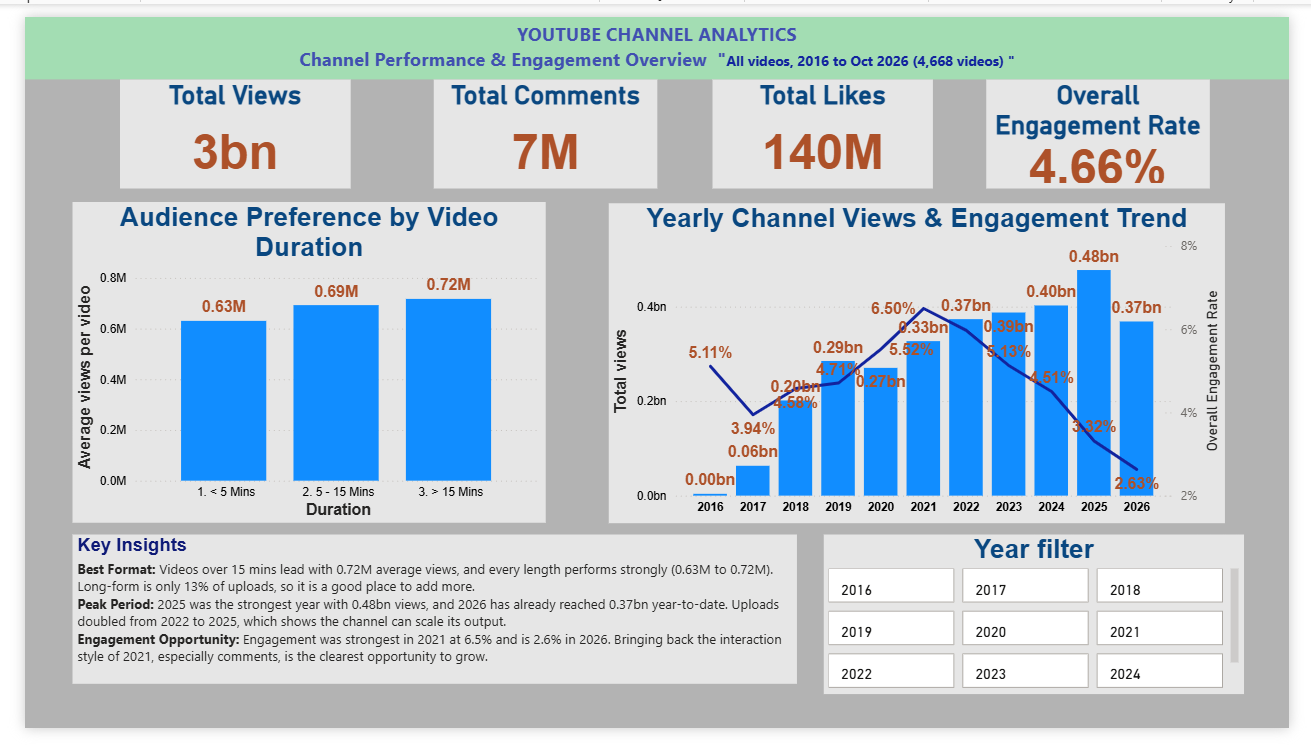

What the dashboard file says about the page in this screenshot:
{"tool":"powerbi","page":{"name":"Page 1","canvas":[1280,720],"ordinal":0},"visuals":[{"type":"textbox","box":[0,0,1280,63.3],"z":0},{"type":"card","title":"Total Views","fields":{"Values":["Query1.Total Views"]},"box":[96.7,63.3,233.3,110],"z":1000},{"type":"card","title":"Total Comments","fields":{"Values":["Query1.Total Comments"]},"box":[413.3,63.3,226.7,110],"z":2000},{"type":"card","title":"Total Likes","fields":{"Values":["Query1.Total Likes"]},"box":[696.7,63.3,223.3,110],"z":3000},{"type":"card","title":"Overall Engagement Rate","fields":{"Values":["Query1.Overall Engagement Rate"]},"box":[973.3,63.3,226.7,110],"z":4000},{"type":"clusteredColumnChart","title":"Audience Preference by Video Duration","fields":{"Y":["Avg(Query1.view_count)"],"Category":["Query1.Duration Tier"]},"box":[48.5,186.8,479.4,325],"z":5000},{"type":"lineClusteredColumnComboChart","title":"Monthly Channel Views & Engagement Trend","fields":{"Y":["Query1.Total Views"],"Y2":["Query1.Overall Engagement Rate"],"Category":["Query1.Published Month"]},"box":[591.4,188.6,624.3,324.3],"z":7000},{"type":"textbox","title":"Key Insights","box":[47.8,523.9,591.3,171.7],"z":7001}]}

Visuals, with their boxes in screenshot pixels (x1, y1, x2, y2), scaled from the page's 1280x720 canvas onto the 1311x745 screenshot:
textbox: (x1=0, y1=0, x2=1310, y2=65)
"Total Views" card: (x1=99, y1=65, x2=338, y2=179)
"Total Comments" card: (x1=423, y1=65, x2=656, y2=179)
"Total Likes" card: (x1=714, y1=65, x2=942, y2=179)
"Overall Engagement Rate" card: (x1=997, y1=65, x2=1229, y2=179)
"Audience Preference by Video Duration" clusteredColumnChart: (x1=50, y1=193, x2=541, y2=530)
"Monthly Channel Views & Engagement Trend" lineClusteredColumnComboChart: (x1=606, y1=195, x2=1245, y2=531)
"Key Insights" textbox: (x1=49, y1=542, x2=655, y2=720)
